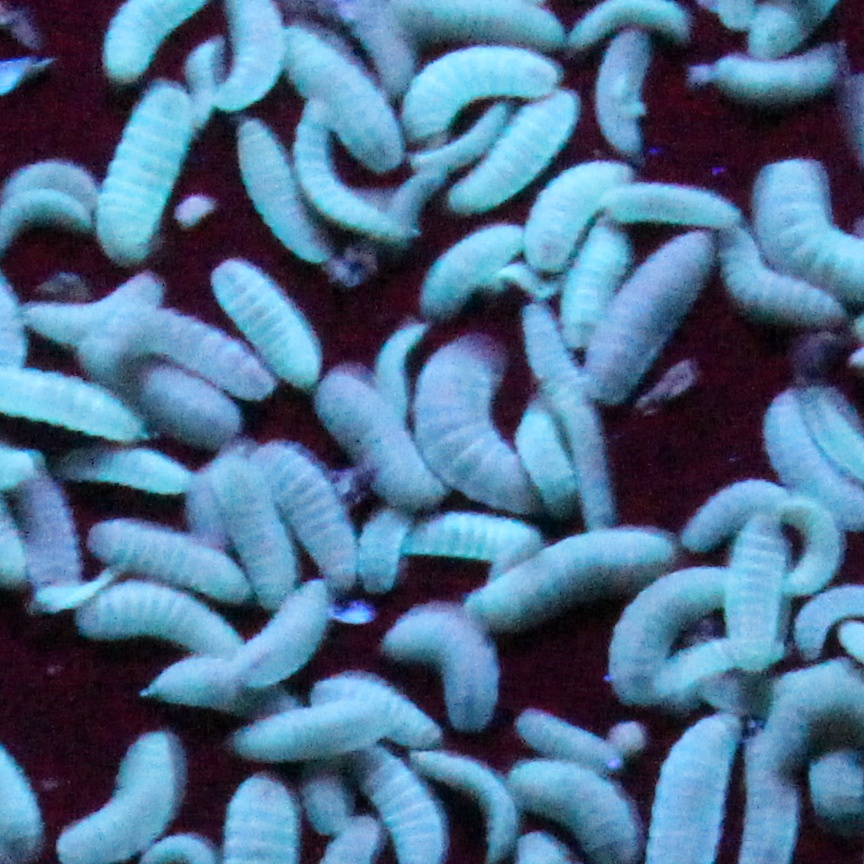larve: (409, 325, 537, 515), (577, 240, 707, 400), (149, 582, 332, 695), (289, 20, 417, 180), (614, 557, 734, 722), (444, 85, 577, 227), (92, 75, 197, 252), (467, 535, 674, 620), (374, 607, 517, 727), (317, 372, 439, 510), (299, 110, 419, 245), (62, 730, 182, 857), (559, 25, 679, 152), (259, 447, 364, 590), (554, 380, 637, 552), (77, 582, 249, 662), (534, 140, 632, 280), (712, 522, 802, 672), (402, 42, 552, 130), (89, 522, 257, 600), (132, 312, 279, 392), (244, 117, 324, 257), (214, 470, 302, 590), (714, 235, 842, 317), (412, 755, 517, 850), (607, 172, 757, 235), (307, 675, 444, 742), (94, 2, 217, 75), (22, 275, 159, 340), (554, 230, 629, 342), (509, 707, 622, 780), (17, 462, 77, 595), (707, 45, 847, 102), (432, 222, 529, 297), (219, 5, 282, 115), (249, 702, 374, 755), (134, 370, 239, 432), (389, 515, 554, 552), (307, 780, 357, 845)
